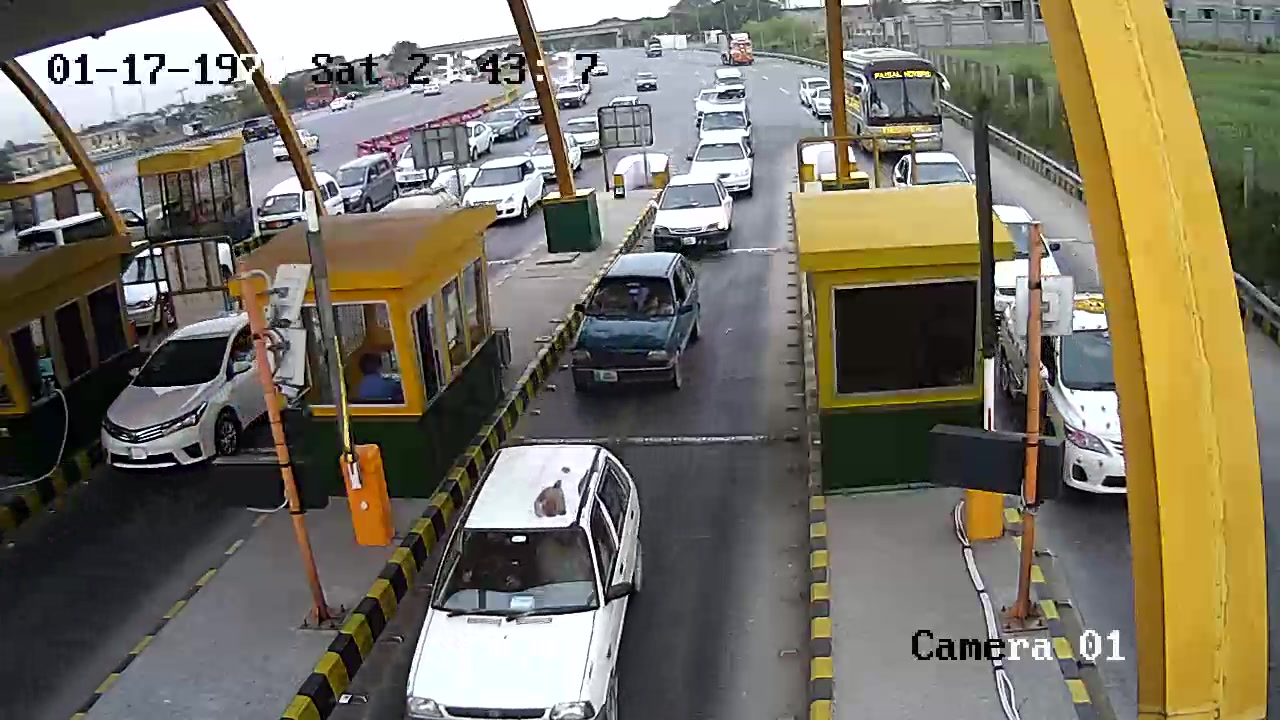F1: (561, 248, 712, 415)
